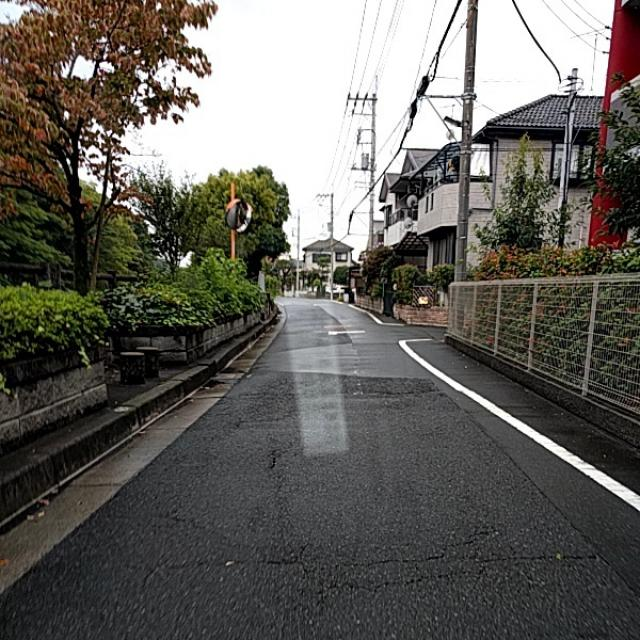pothole: (242, 456, 336, 584)
